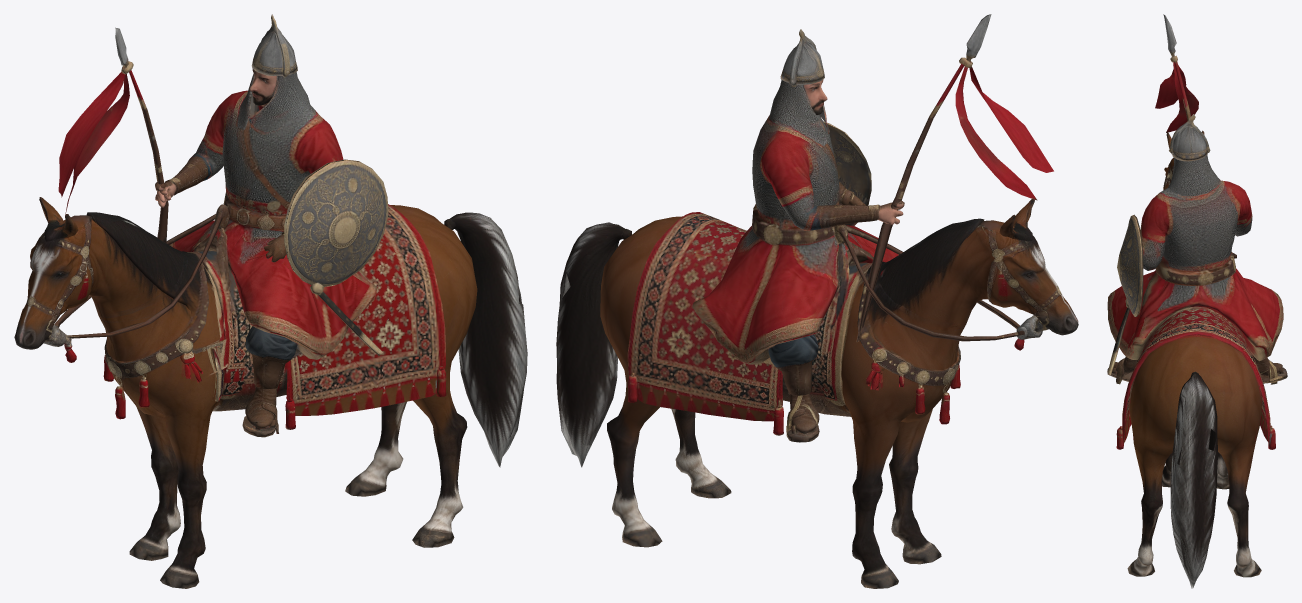
The model's file is Meshy_AI_model.glb.
3 renders of one model, left to right at view 1: azimuth 30°, elevation 25°; view 2: azimuth 150°, elevation 25°; view 3: azimuth 270°, elevation 25°, orthographic. The views are drawn at different scales.
Size of the model in its own units: 0.9496 by 1 by 0.3698.
1 material, 1 textured.
